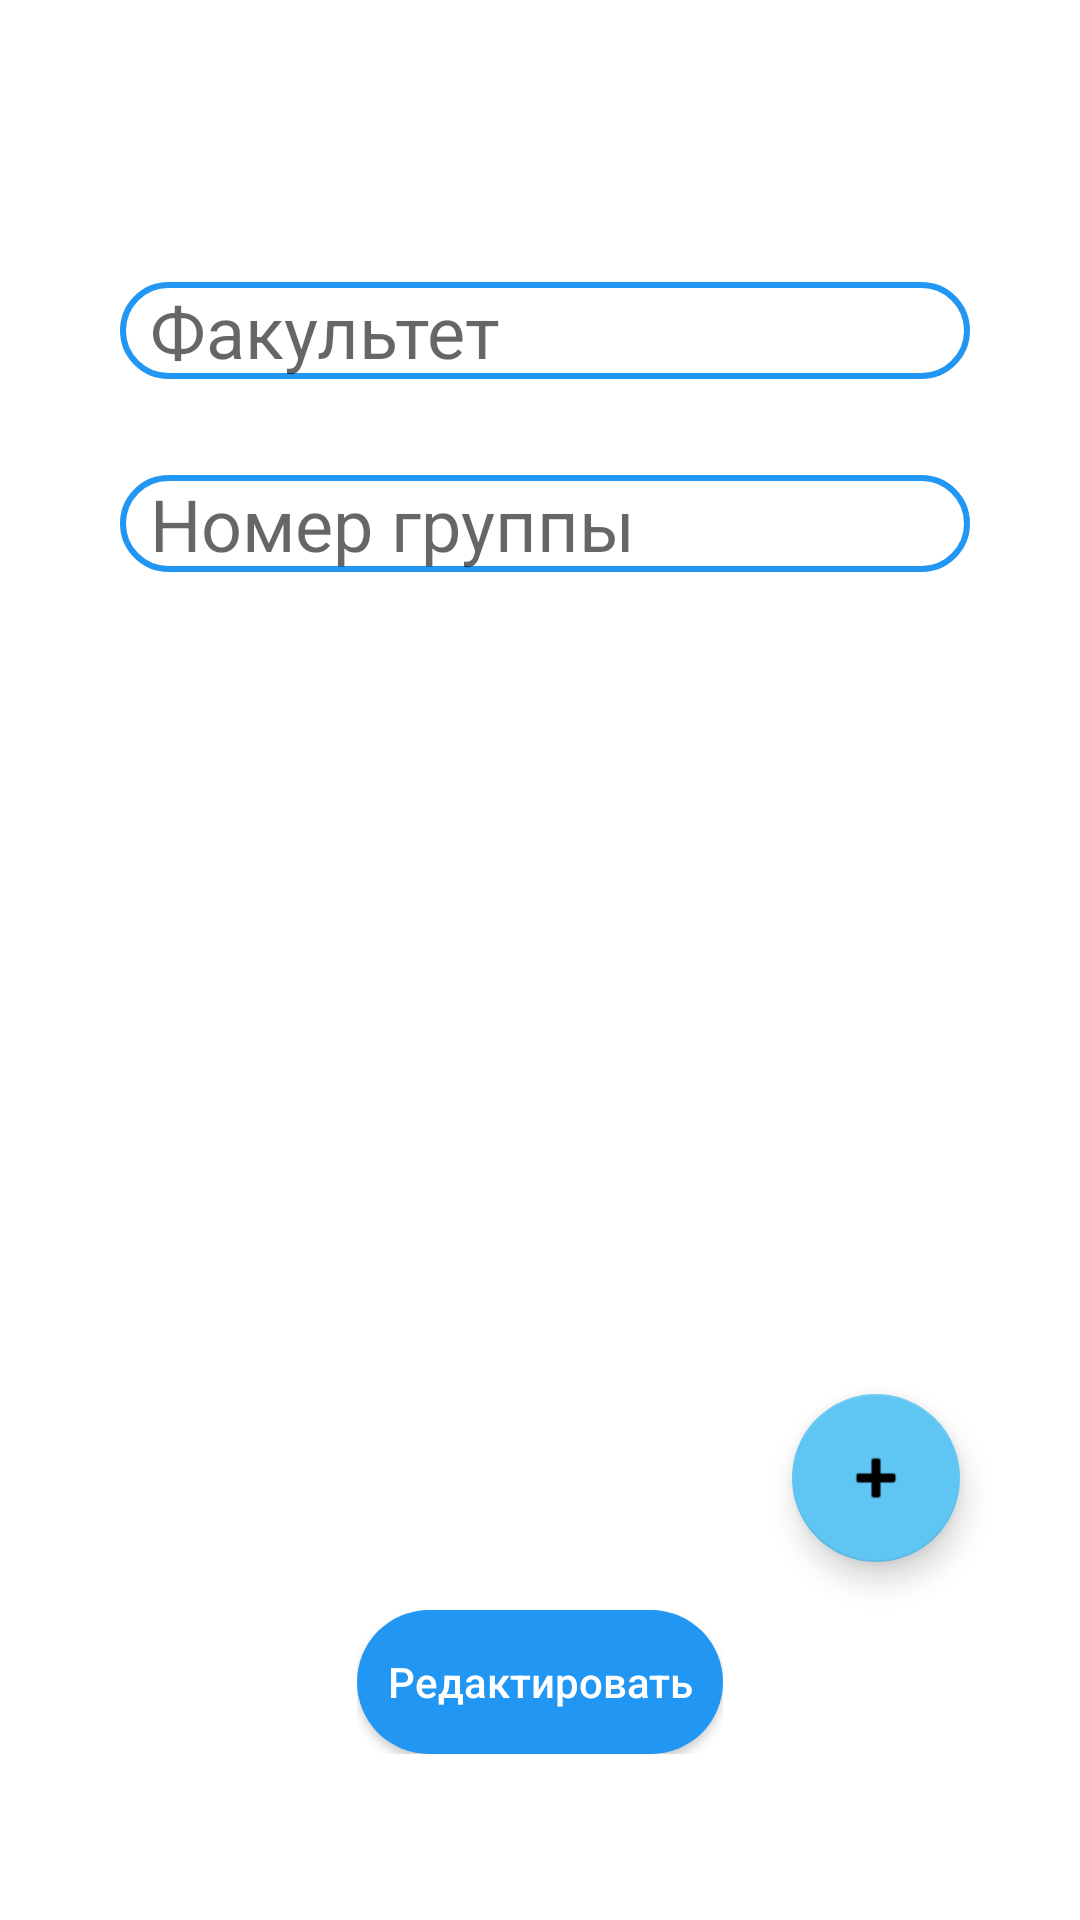

Icon click points for this 1080×1920 phone screenshot, format (x,y):
add: (876,1478)
